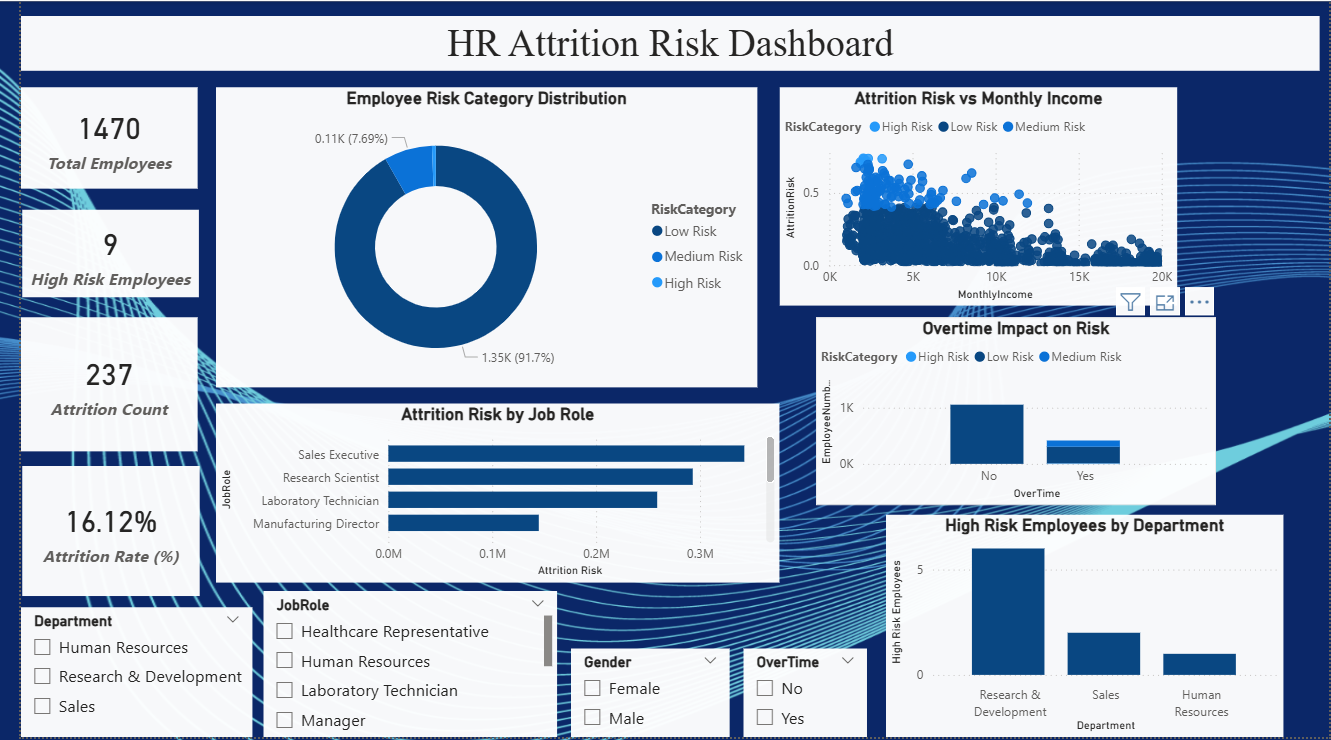

Layout of this report page (visuals, bound fields, positions):
{"tool":"powerbi","page":{"name":"Page 1","canvas":[1280,720],"ordinal":0},"visuals":[{"type":"card","fields":{"Values":["CountNonNull(hr_risk_scored.EmployeeNumber)"]},"box":[0,84.4,172.4,99],"z":0},{"type":"card","fields":{"Values":["CountNonNull(hr_risk_scored.EmployeeNumber)"]},"box":[1.2,204.2,172.4,85.6],"z":1000},{"type":"donutChart","title":"Employee Risk Category Distribution","fields":{"Category":["hr_risk_scored.RiskCategory"],"Y":["CountNonNull(hr_risk_scored.EmployeeNumber)"]},"box":[190.8,84.4,529.5,293.5],"z":1001},{"type":"clusteredColumnChart","title":"High Risk Employees by Department","fields":{"Category":["hr_risk_scored.Department"],"Y":["CountNonNull(hr_risk_scored.EmployeeNumber)"]},"box":[846.2,502.6,388.9,217.7],"z":1002},{"type":"textbox","box":[0,15.1,1270.7,53.5],"z":1004},{"type":"card","fields":{"Values":["CountNonNull(hr_risk_scored.EmployeeNumber)"]},"box":[0,309.4,172.4,130.8],"z":1005},{"type":"card","fields":{"Values":["hr_risk_scored.Attrition Rate (%)"]},"box":[1.2,454.9,173.6,127.2],"z":1006},{"type":"clusteredBarChart","title":"Attrition Risk by Job Role","fields":{"Category":["hr_risk_scored.JobRole"],"Y":["Sum(hr_risk_scored.EmployeeNumber)"]},"box":[190.8,393.8,551.5,174.9],"z":1007},{"type":"scatterChart","title":"Attrition Risk vs Monthly Income","fields":{"X":["hr_risk_scored.MonthlyIncome"],"Y":["hr_risk_scored.AttritionRiskScore"],"Series":["hr_risk_scored.RiskCategory"]},"box":[742.3,84.4,388.9,214],"z":1008},{"type":"columnChart","title":"Overtime Impact on Risk","fields":{"Category":["hr_risk_scored.OverTime"],"Series":["hr_risk_scored.RiskCategory"],"Y":["CountNonNull(hr_risk_scored.EmployeeNumber)"]},"box":[777.7,309.4,391.3,183.4],"z":1009},{"type":"slicer","fields":{"Values":["hr_risk_scored.Department"]},"box":[0,593.1,226.2,127.2],"z":1010},{"type":"slicer","fields":{"Values":["hr_risk_scored.OverTime"]},"box":[706.8,633.4,121.1,86.8],"z":1011},{"type":"slicer","fields":{"Values":["hr_risk_scored.JobRole"]},"box":[237.2,577.2,287.4,143.1],"z":1012},{"type":"slicer","fields":{"Values":["hr_risk_scored.Gender"]},"box":[538,633.4,155.3,86.8],"z":1013}]}

Visuals, with their boxes in screenshot pixels (x1, y1, x2, y2), scaled from the page's 1280x720 canvas onto the 1331x740 screenshot:
card - CountNonNull(hr_risk_scored.EmployeeNumber): region(0, 87, 179, 188)
card - CountNonNull(hr_risk_scored.EmployeeNumber): region(1, 210, 181, 298)
"Employee Risk Category Distribution" donutChart: region(198, 87, 749, 388)
"High Risk Employees by Department" clusteredColumnChart: region(880, 517, 1284, 739)
textbox: region(0, 16, 1321, 71)
card - CountNonNull(hr_risk_scored.EmployeeNumber): region(0, 318, 179, 452)
card - hr_risk_scored.Attrition Rate (%): region(1, 468, 182, 598)
"Attrition Risk by Job Role" clusteredBarChart: region(198, 405, 772, 584)
"Attrition Risk vs Monthly Income" scatterChart: region(772, 87, 1176, 307)
"Overtime Impact on Risk" columnChart: region(809, 318, 1216, 506)
slicer - hr_risk_scored.Department: region(0, 610, 235, 739)
slicer - hr_risk_scored.OverTime: region(735, 651, 861, 739)
slicer - hr_risk_scored.JobRole: region(247, 593, 546, 739)
slicer - hr_risk_scored.Gender: region(559, 651, 721, 739)
